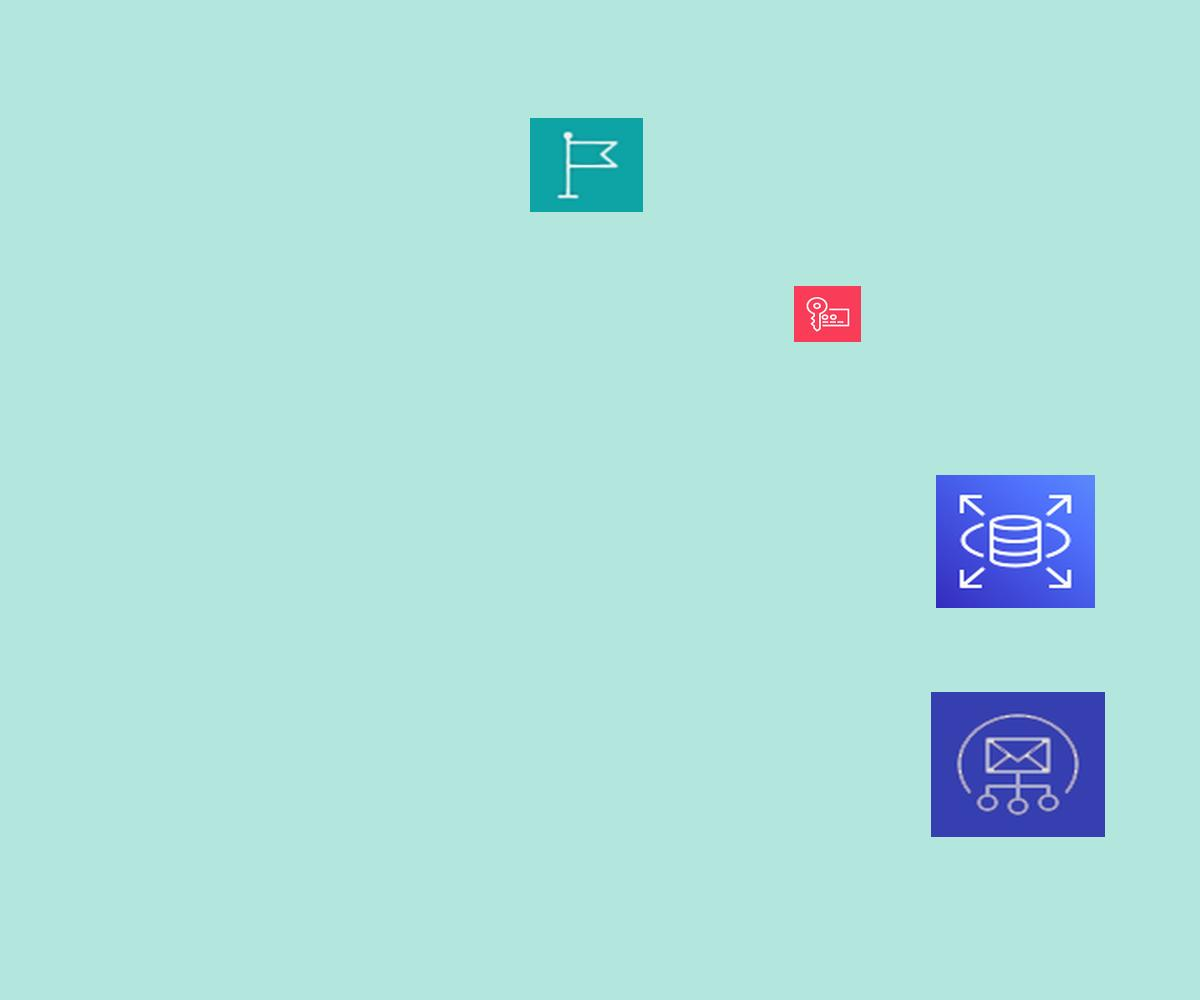AWS-Key-Management-Service: (794, 286, 861, 342)
AWS-RDS: (936, 475, 1095, 608)
AWS-Region: (530, 118, 643, 212)
AWS-Simple-Email-Service: (931, 692, 1105, 837)
